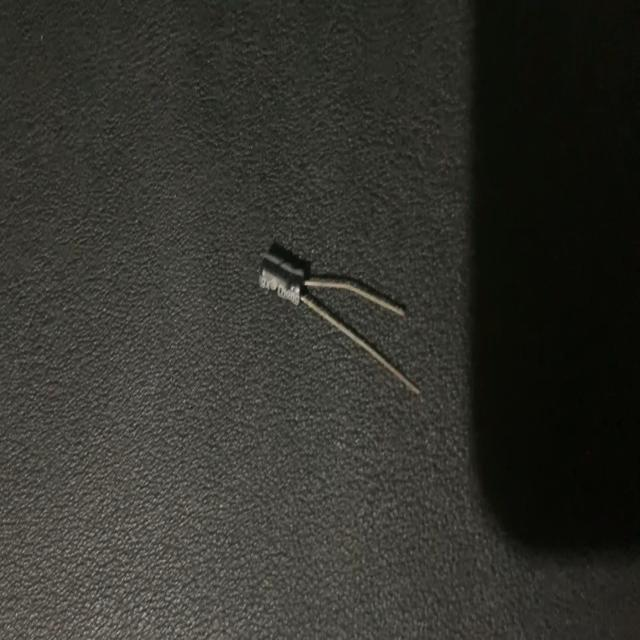capacitor: (255, 236, 424, 400)
